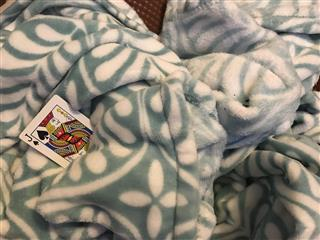JackOfSpades: (17, 93, 95, 169)
